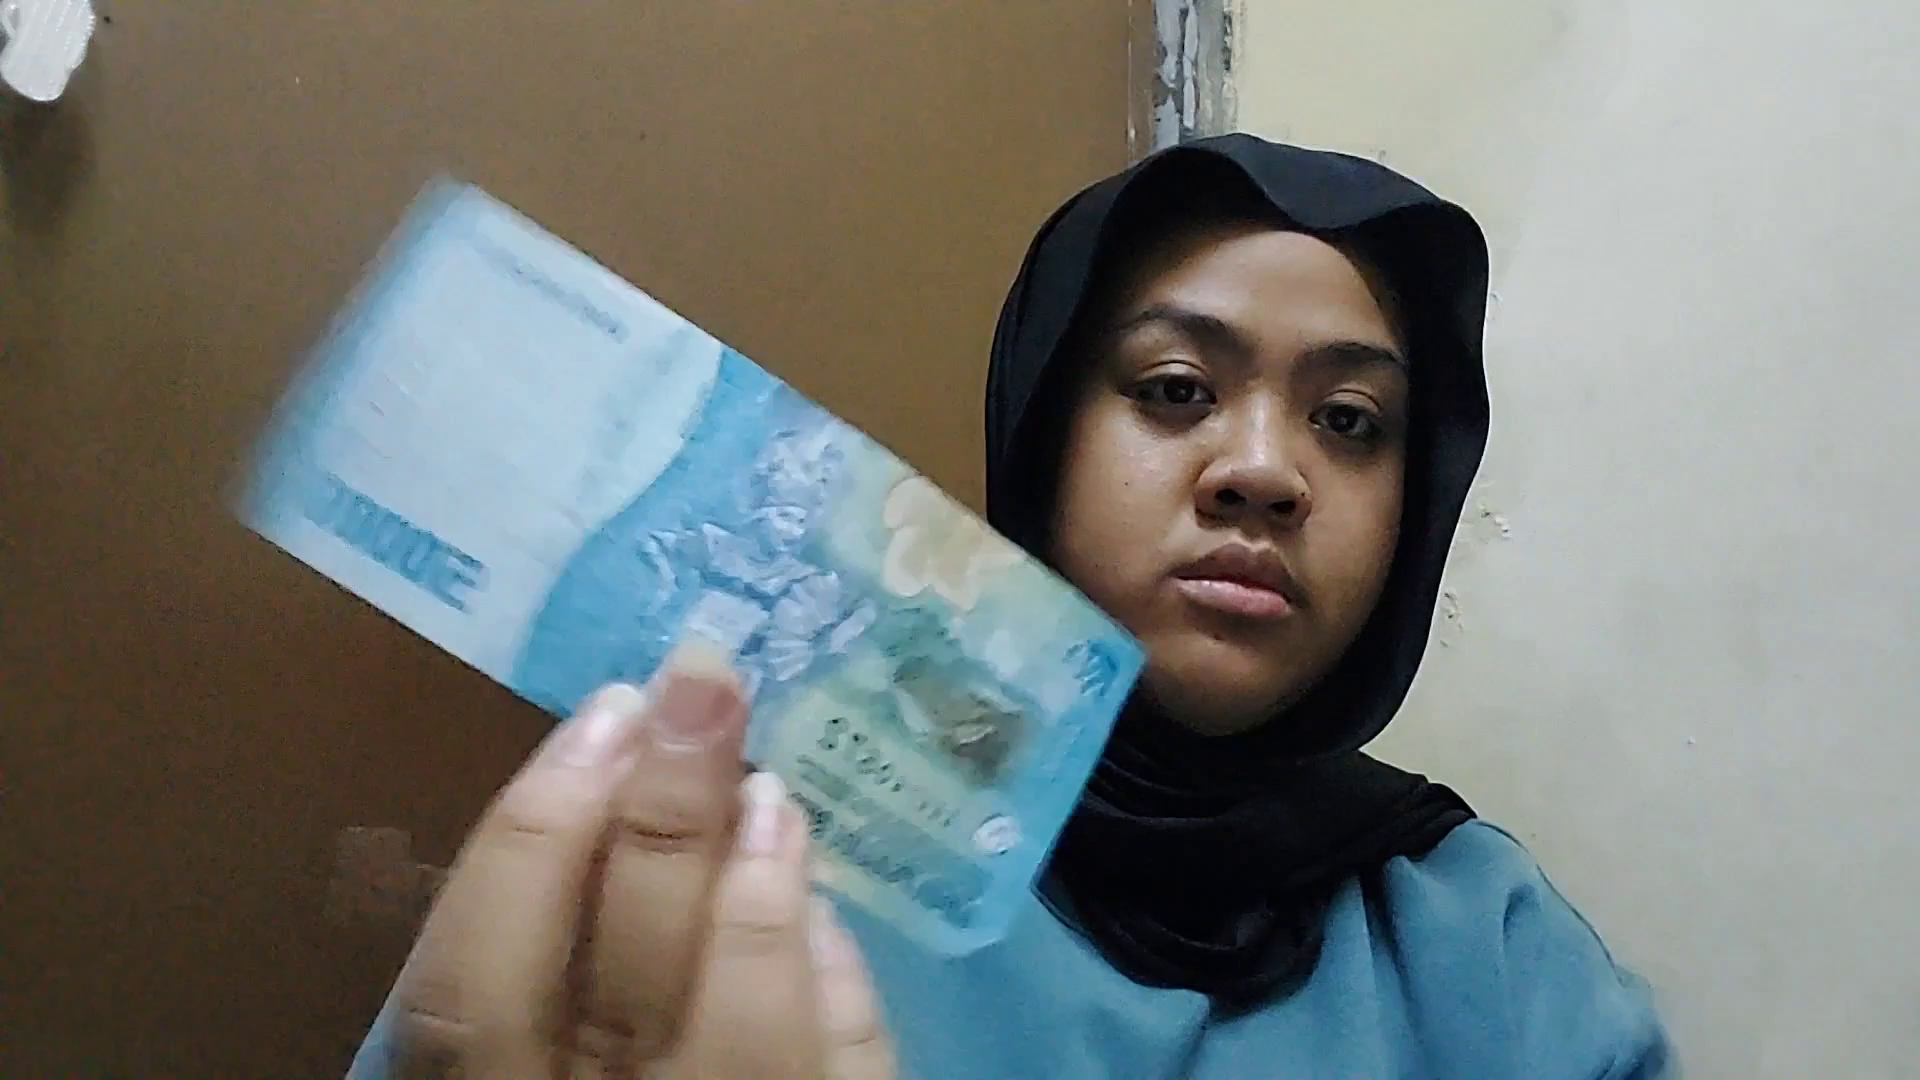50k: (421, 169, 1305, 571)
